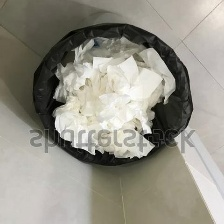tissue: (45, 32, 181, 164)
